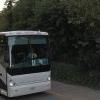Bus: (3, 25, 54, 98)
